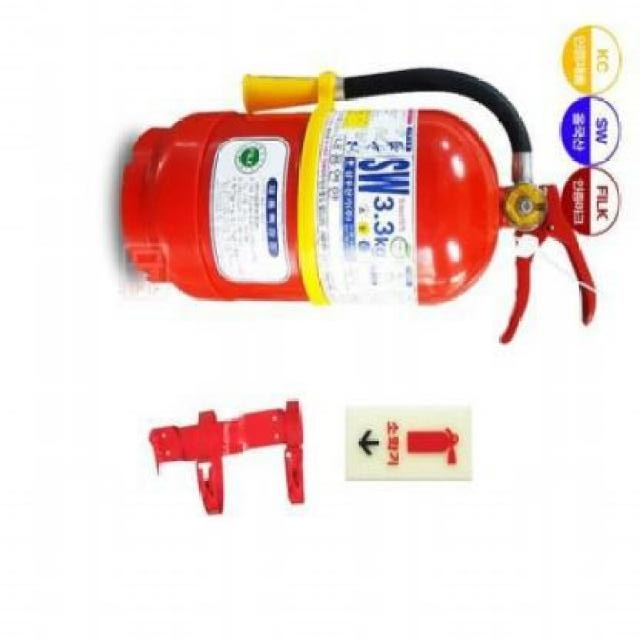fire extinguisher: (122, 66, 598, 345)
